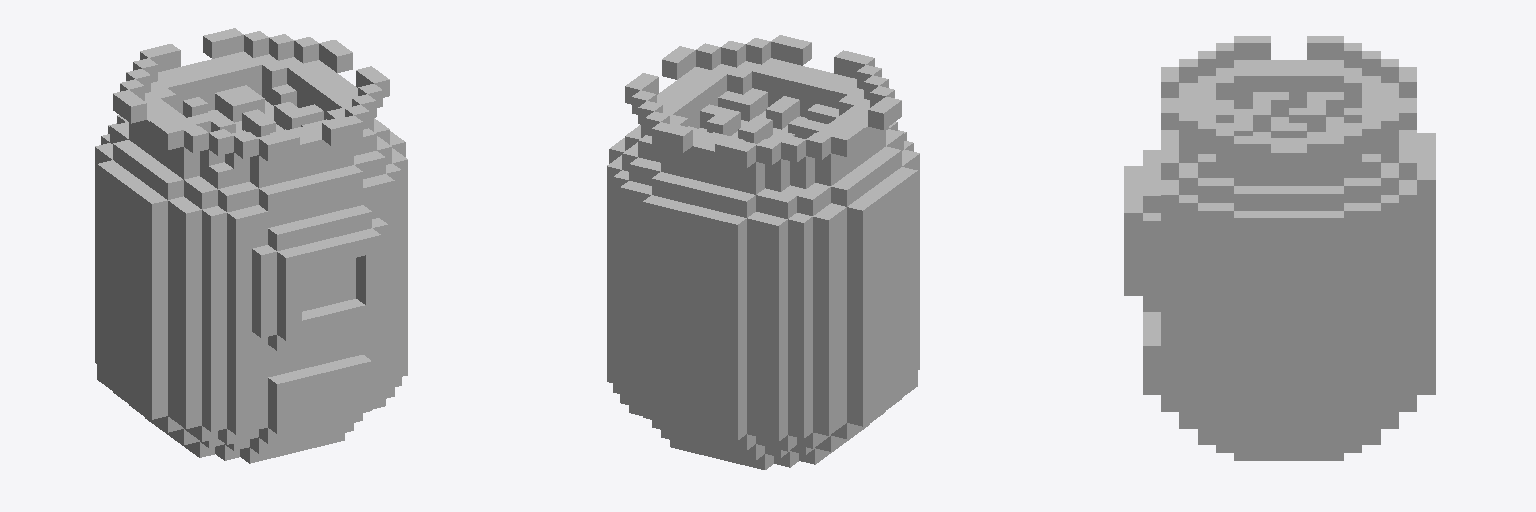
The model's file is Raytomatons Model Testing-3-Body.obj.
The picture shows the model from 3 angles: view 1: azimuth 30°, elevation 25°; view 2: azimuth 150°, elevation 25°; view 3: azimuth 270°, elevation 25°; orthographic projection.
Visible parts, largest first — view 1: Body; view 2: Body; view 3: Body.
Boxes of the visible parts, x1,y1,x2,y2 form: Body: [95, 28, 407, 463]; Body: [607, 35, 919, 469]; Body: [1124, 36, 1435, 460].
Bounding box in the file's own units: 1.6 × 2 × 1.7.